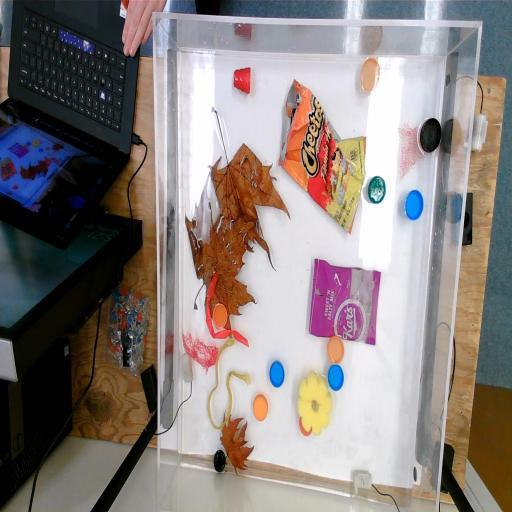Bottle Cap: (360, 58, 381, 96), (420, 118, 442, 154), (404, 188, 424, 221), (326, 336, 346, 365), (368, 175, 386, 205), (328, 363, 344, 392), (252, 394, 268, 422), (270, 360, 286, 388), (212, 304, 228, 331), (214, 450, 226, 474), (298, 417, 312, 436)
Cone Cap: (233, 67, 251, 97)
Leaf: (208, 106, 291, 274), (183, 215, 258, 338), (219, 410, 255, 476)
Netting: (396, 124, 425, 180), (182, 333, 219, 374)
Plastic Bag: (278, 77, 368, 236), (307, 256, 382, 348)
Plastic Strand: (208, 340, 252, 430), (204, 271, 250, 348)
Sponge: (296, 372, 332, 436)
